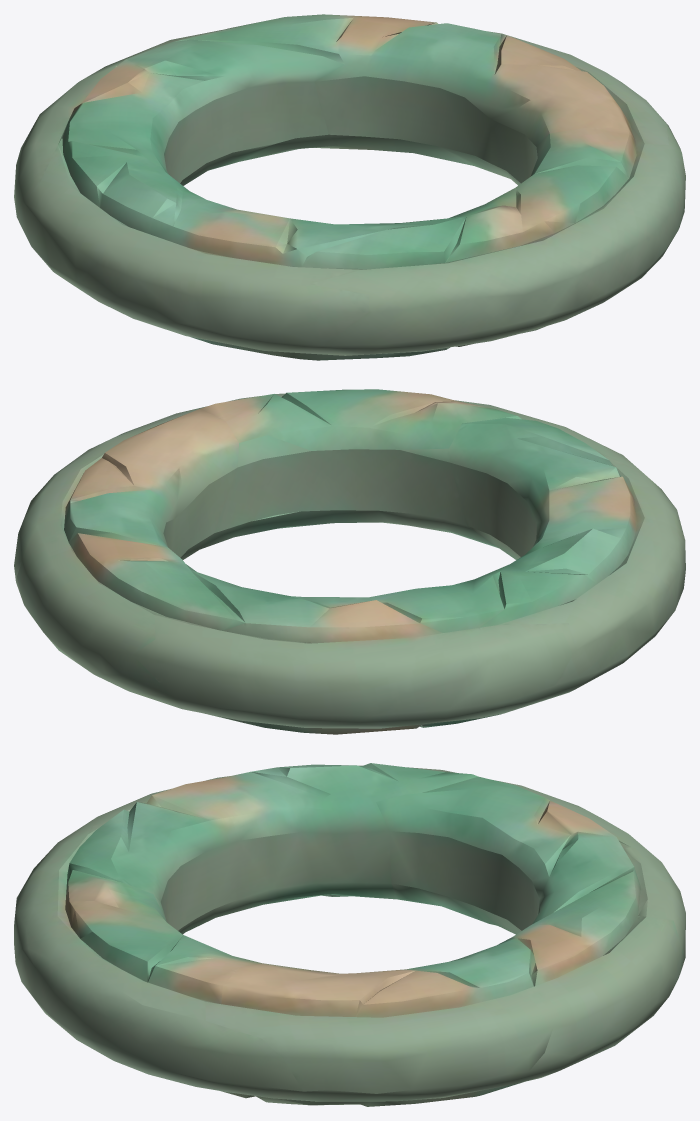
The model's file is m2TrainingDisc.glb.
3 renders of one model, top to bottom at view 1: azimuth 30°, elevation 25°; view 2: azimuth 150°, elevation 25°; view 3: azimuth 270°, elevation 25°, orthographic.
Parts seen in each view (by area): view 1: model; view 2: model; view 3: model.
Boxes of the visible parts, x1,y1,x2,y2 form: model: (14,14,685,360); model: (14,389,685,734); model: (14,763,685,1106).
Bounding box in the file's own units: 1.89 × 0.3977 × 1.9.
1 material, 1 textured.
